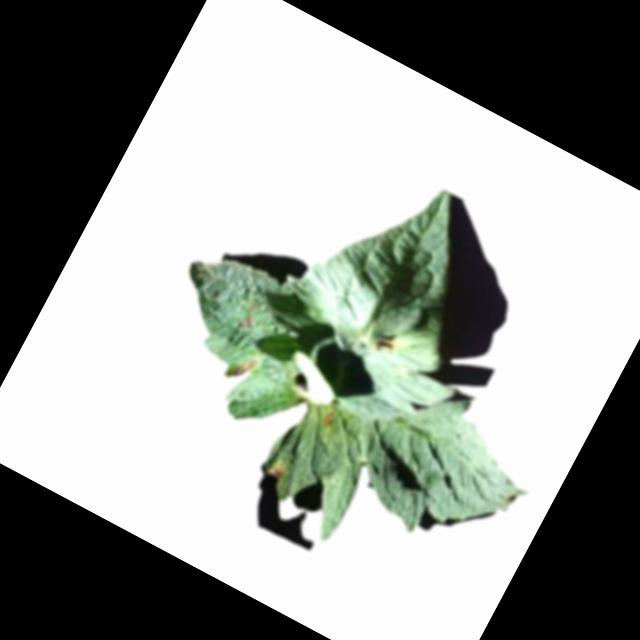Early_blight: (227, 349, 261, 384), (371, 329, 402, 359), (266, 461, 287, 483), (318, 408, 338, 430), (237, 312, 255, 330)
